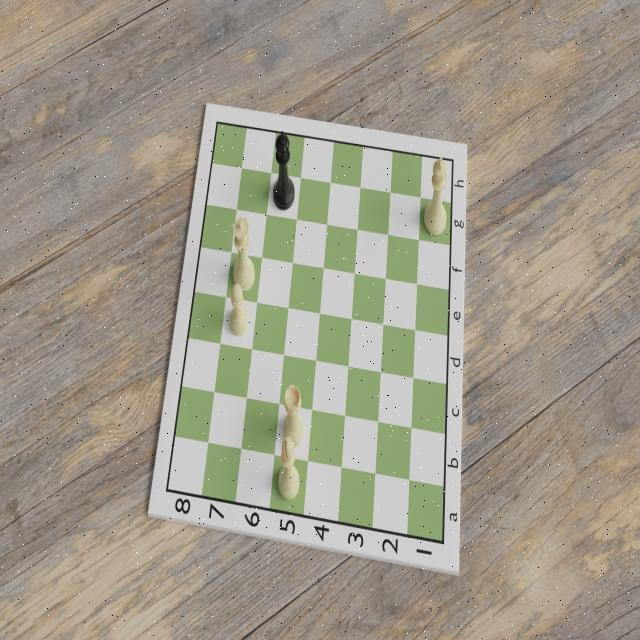black-king: (272, 128, 296, 211)
white-bishop: (277, 436, 300, 502)
white-king: (424, 154, 447, 238)
white-pawn: (227, 283, 248, 337)
white-queen: (232, 215, 256, 293)
white-rook: (282, 383, 306, 447)
